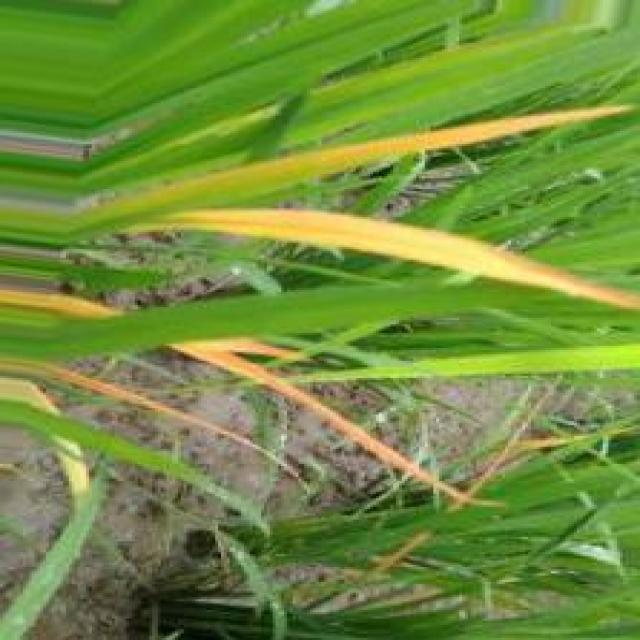Rice Tungro: (90, 107, 630, 214), (170, 338, 481, 504), (172, 346, 498, 504), (165, 209, 636, 309), (52, 368, 304, 482), (0, 289, 122, 317)
